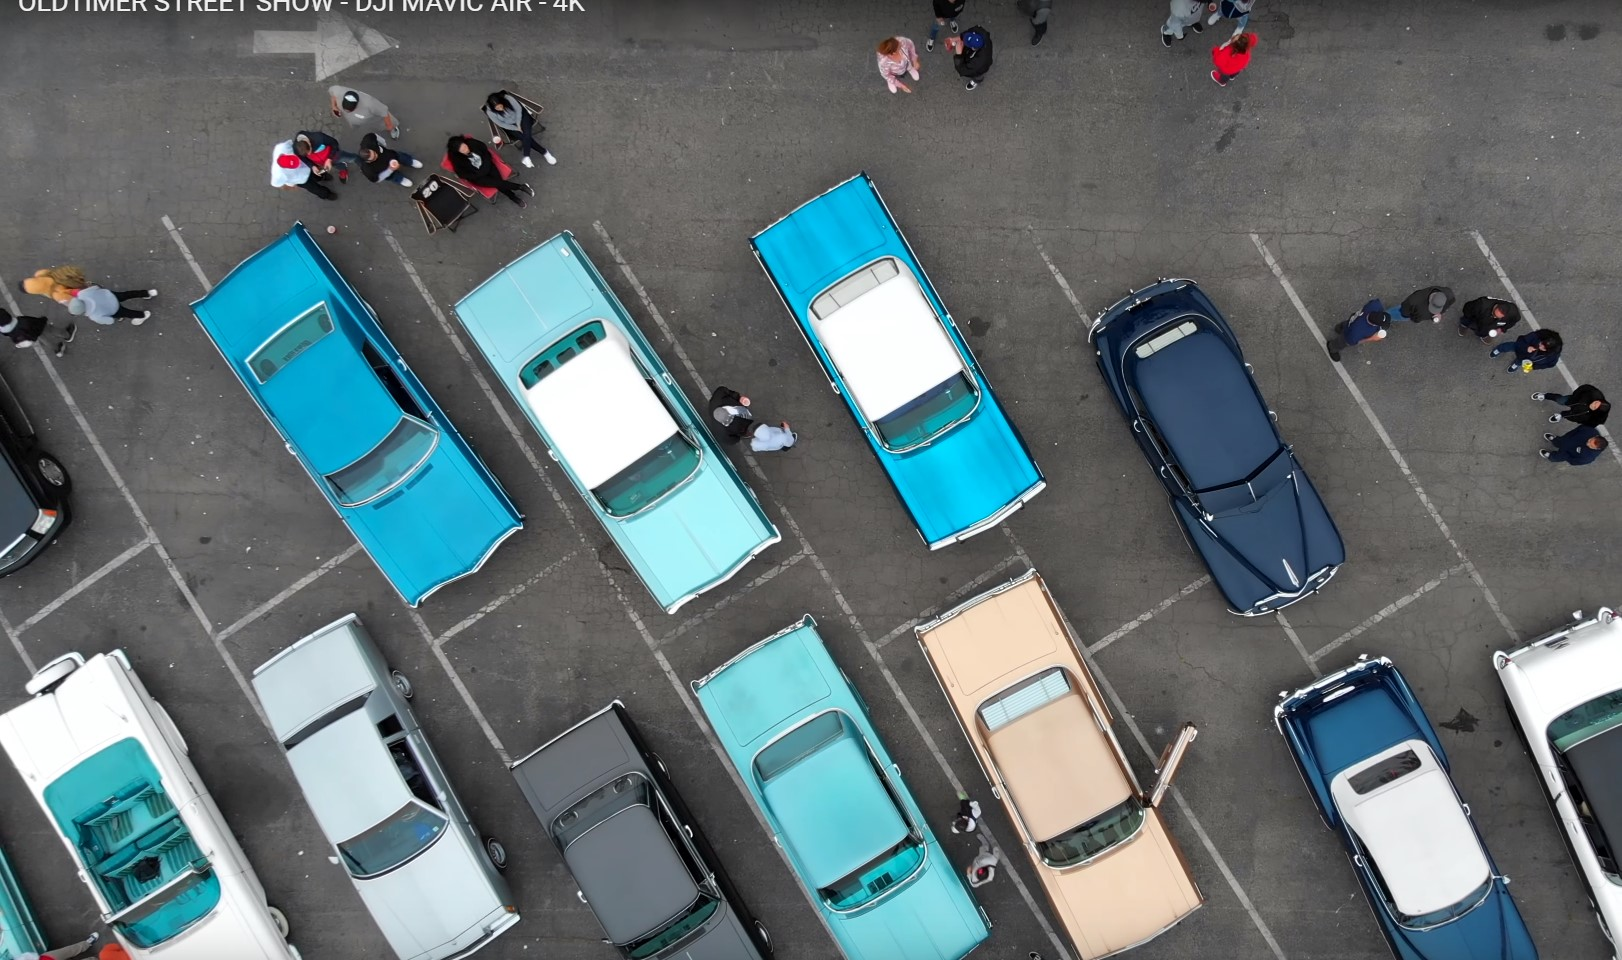araba: (188, 224, 528, 619), (449, 223, 787, 616), (748, 171, 1046, 560), (920, 573, 1203, 960), (1075, 270, 1344, 642), (695, 613, 982, 960), (9, 643, 298, 960), (251, 614, 514, 960), (1268, 656, 1538, 960), (509, 700, 762, 960)
insan: (478, 87, 561, 169), (433, 138, 534, 206), (263, 123, 344, 196), (14, 263, 90, 326), (325, 78, 401, 137), (71, 287, 161, 335), (1488, 331, 1568, 384), (1525, 388, 1615, 431), (1548, 427, 1619, 478), (351, 138, 421, 189), (1322, 304, 1396, 351), (867, 36, 924, 96), (944, 28, 1003, 82), (1211, 28, 1258, 90), (1466, 294, 1523, 338), (1392, 285, 1460, 321), (705, 387, 744, 435), (749, 423, 803, 456)
